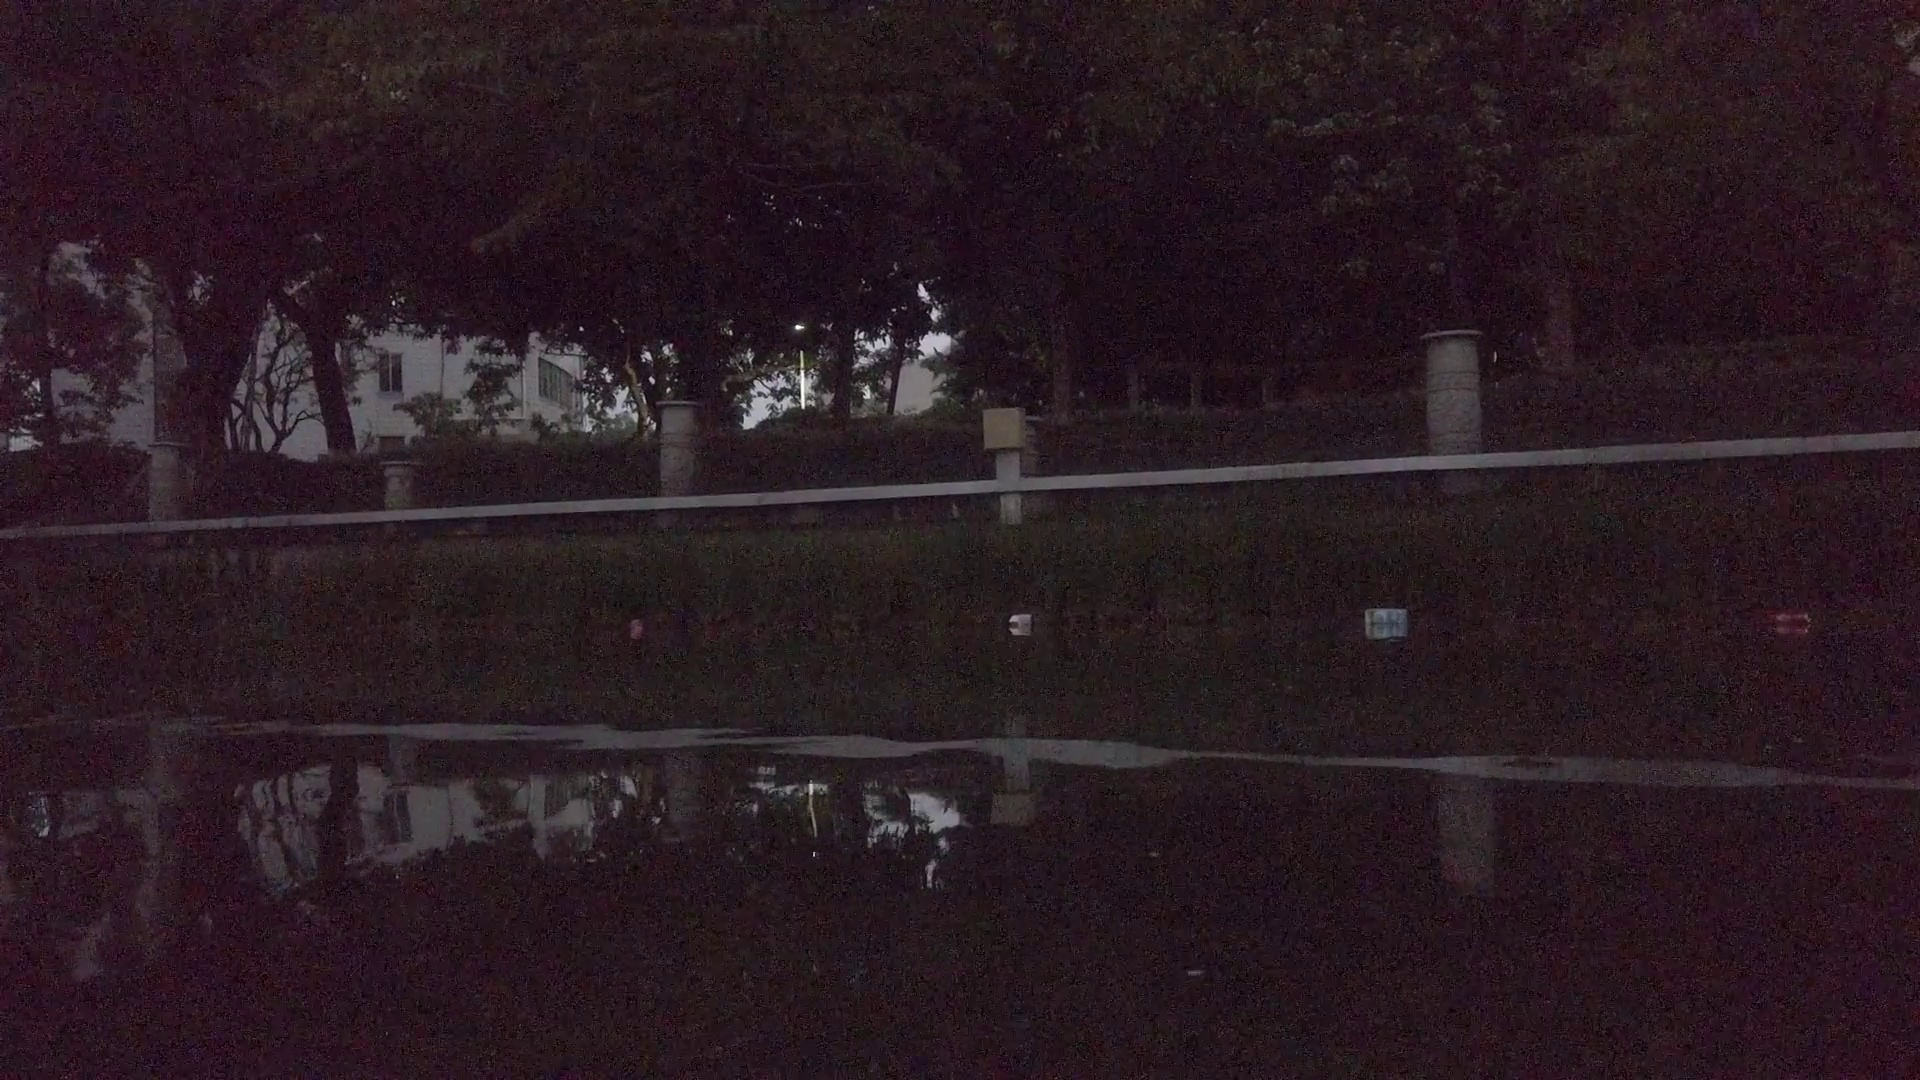bottle: (1764, 608, 1816, 632), (626, 616, 651, 640)
carton: (1362, 607, 1410, 624), (1011, 612, 1030, 626)
